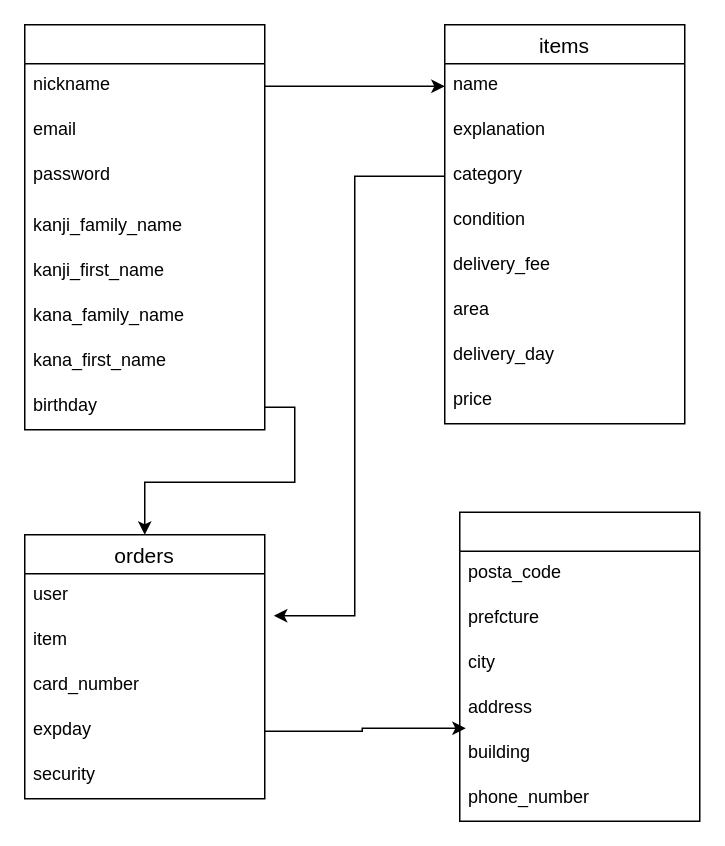
This 725x846 diagram has some shape labels left out. The shapes that lost their labels are listed below. From the top down, each one's box as (x1, y1, x2, y2) in pixels, then its label:
(23, 23, 265, 430): users
(458, 511, 700, 821): addresses
